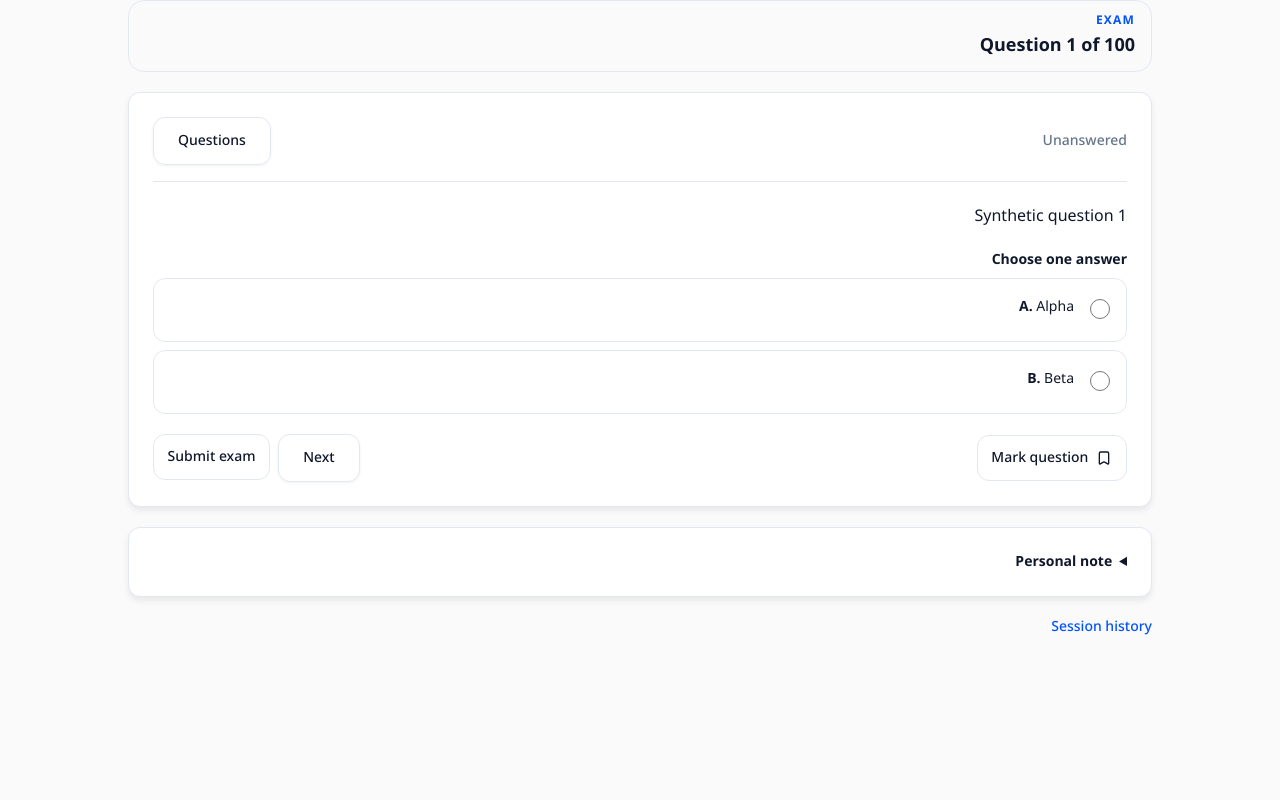
Test: Teaching learner pages › provides a compact 100-question navigator with current, answered, and unanswered states
Check: the text "Synthetic question 1" is shown, box [974,199,1127,233]
Click the button "Questions". click: (212, 141)
box: [153,117,271,165]
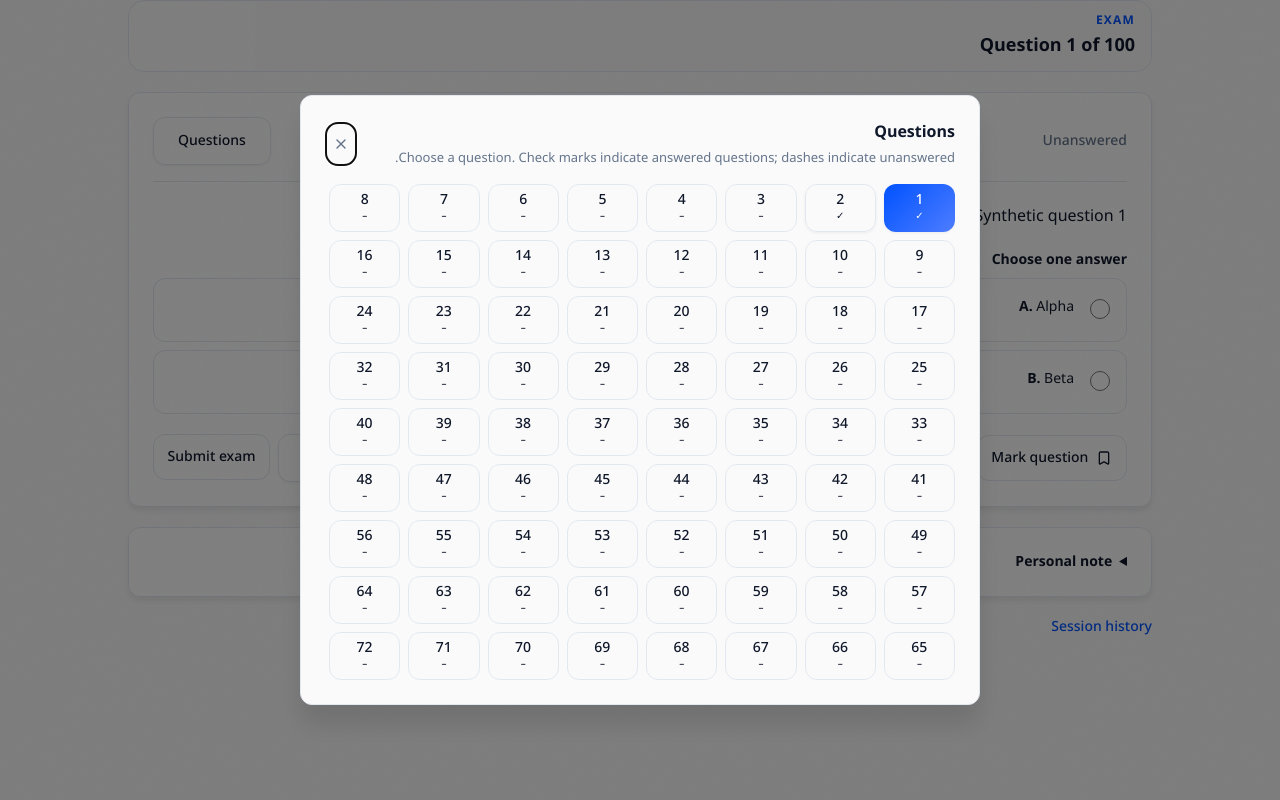
Check: the number of buttons "1 ✓" is 100
Check: the button named "Question 2, answered" is shown, box [804,184,876,232]
Check: the button named "Question 3, unanswered" is shown, box [725,184,797,232]
Click the button named "Question 50, unanswered". click: (840, 544)
box: [804,520,876,568]
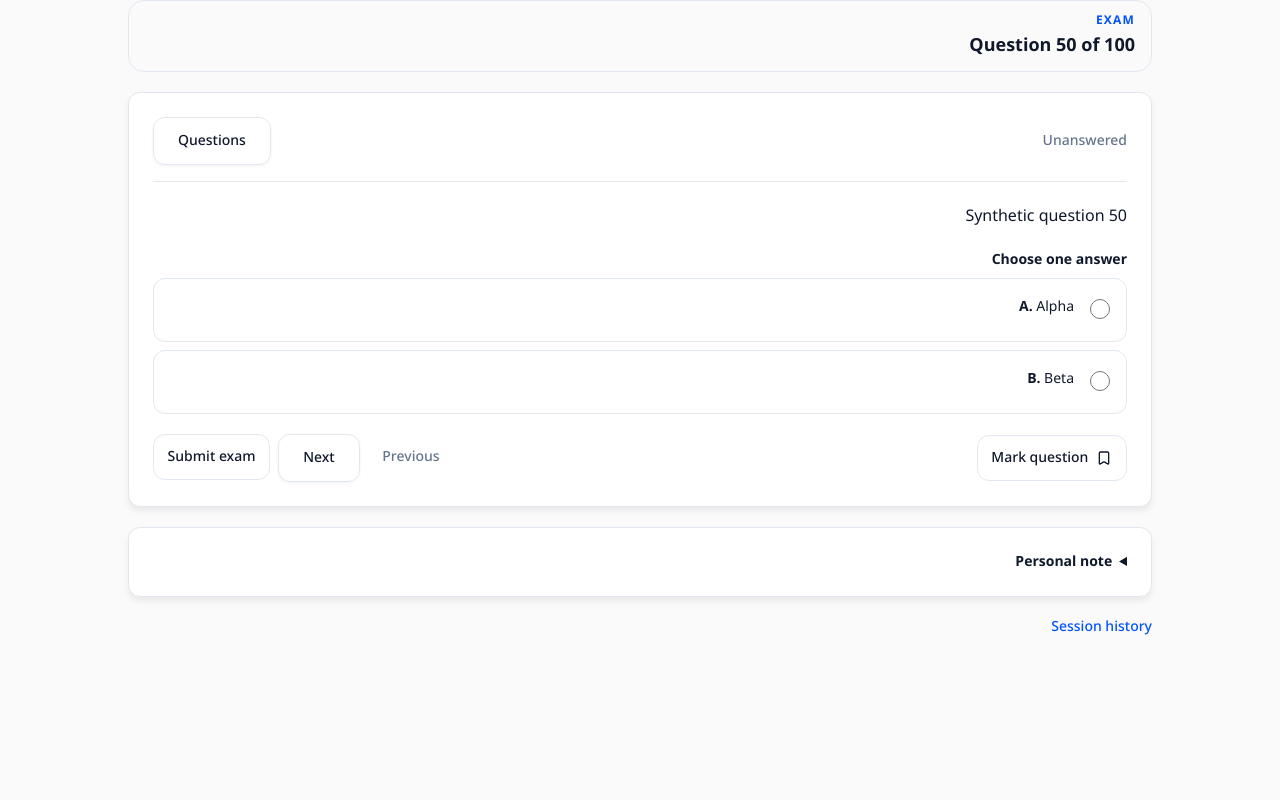
Check: the text "Synthetic question 50" is shown, box [965,199,1127,233]
Check: the heading "Question 50 of 100" is shown, box [969,31,1135,59]
